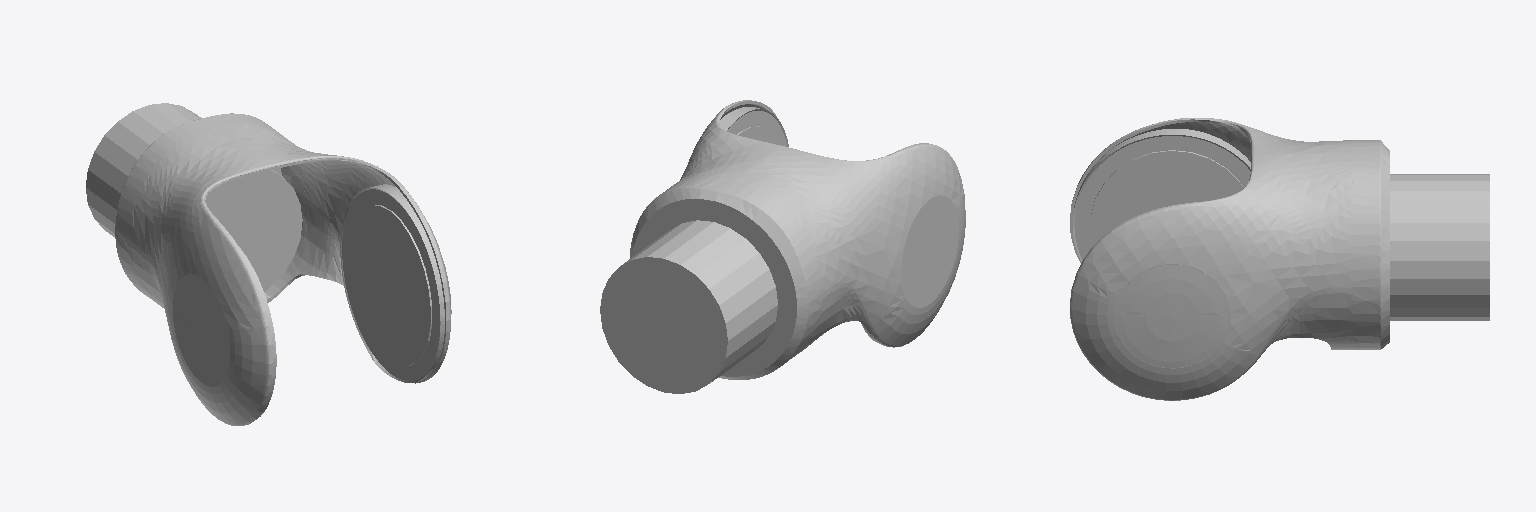
The model's file is left_shoulder_roll_link_visuals.obj.
The picture shows the model from 3 angles: view 1: azimuth 30°, elevation 25°; view 2: azimuth 150°, elevation 25°; view 3: azimuth 270°, elevation 25°; orthographic projection.
Bounding box in the file's own units: 0.0812 × 0.0729 × 0.1366.